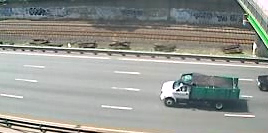car: (159, 71, 242, 113)
